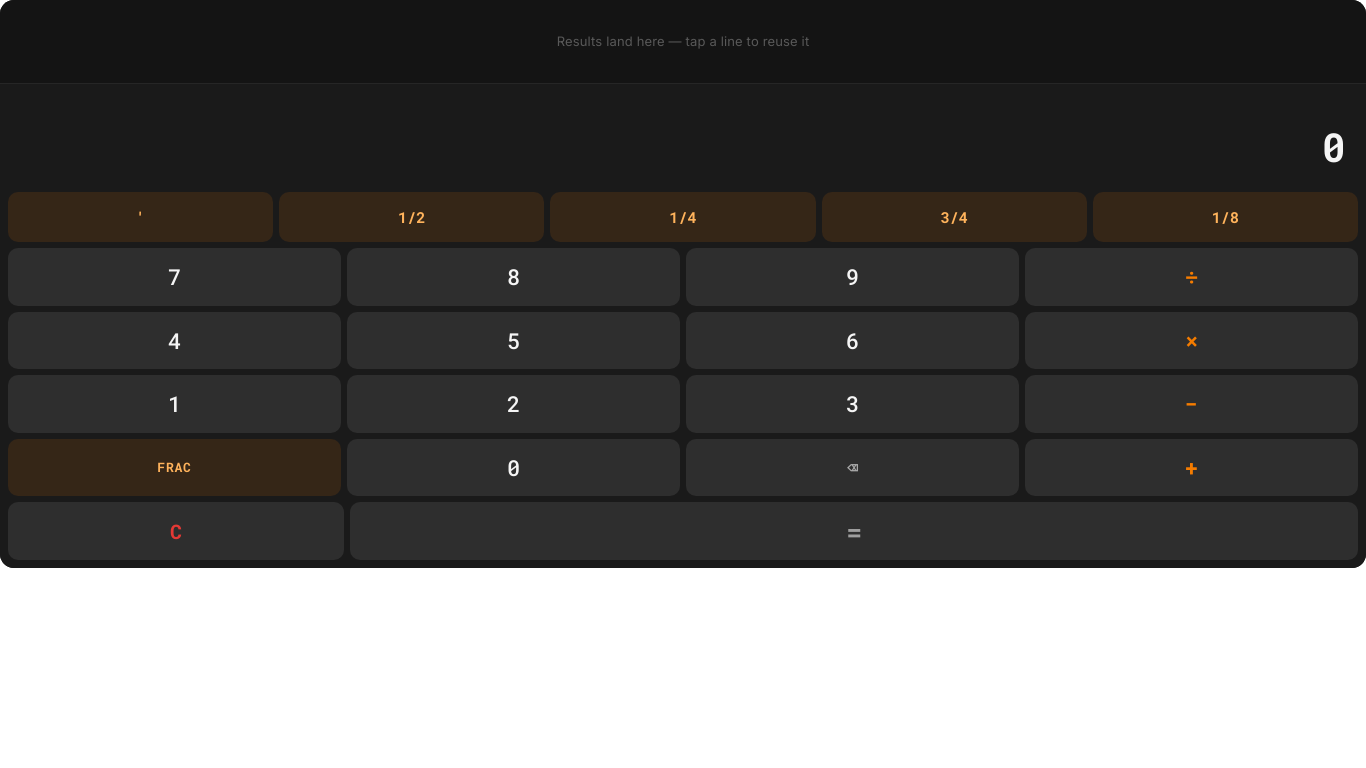
TapeCalc UI › backspace removes single digits
The width and height of the screenshot is (1366, 768).
Click the button "1" at (174, 404), box [8,375,341,433]
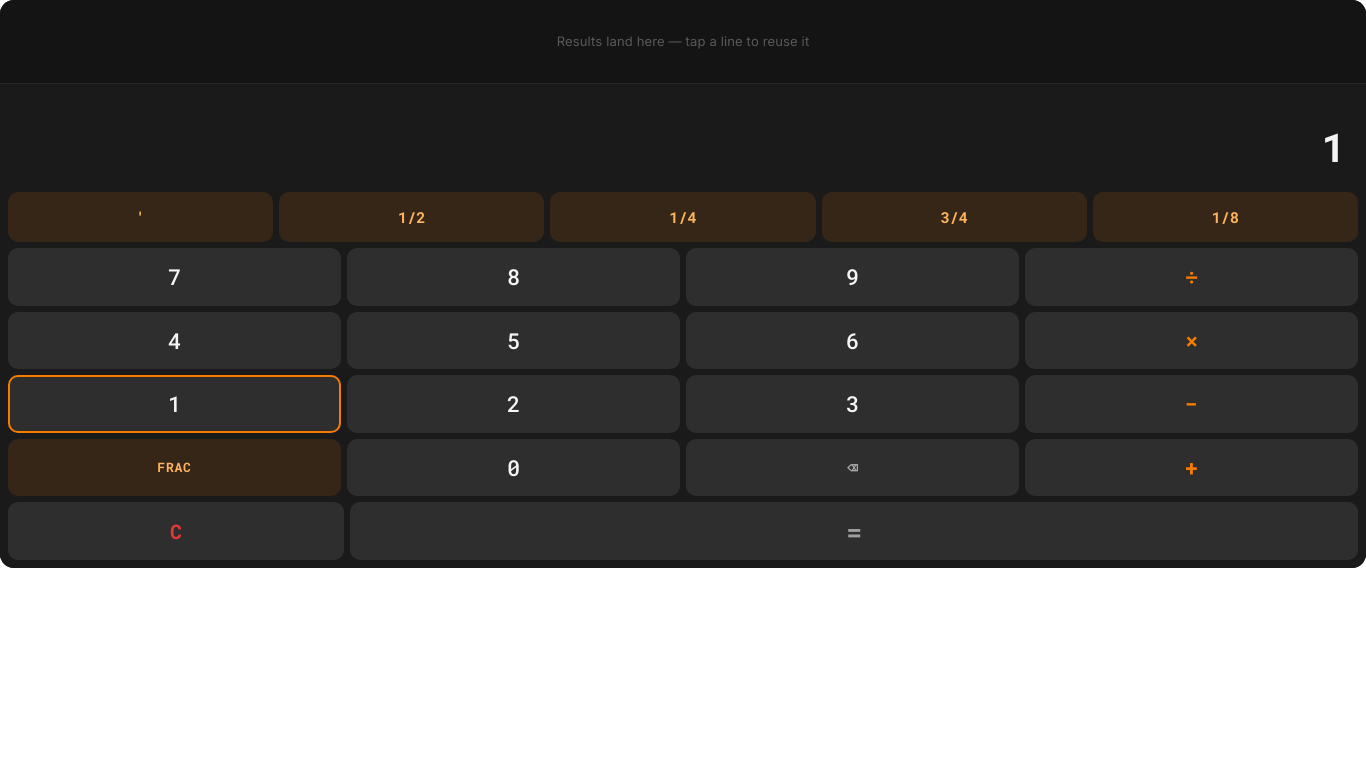
Click the button "2" at (514, 404), box [347,375,680,433]
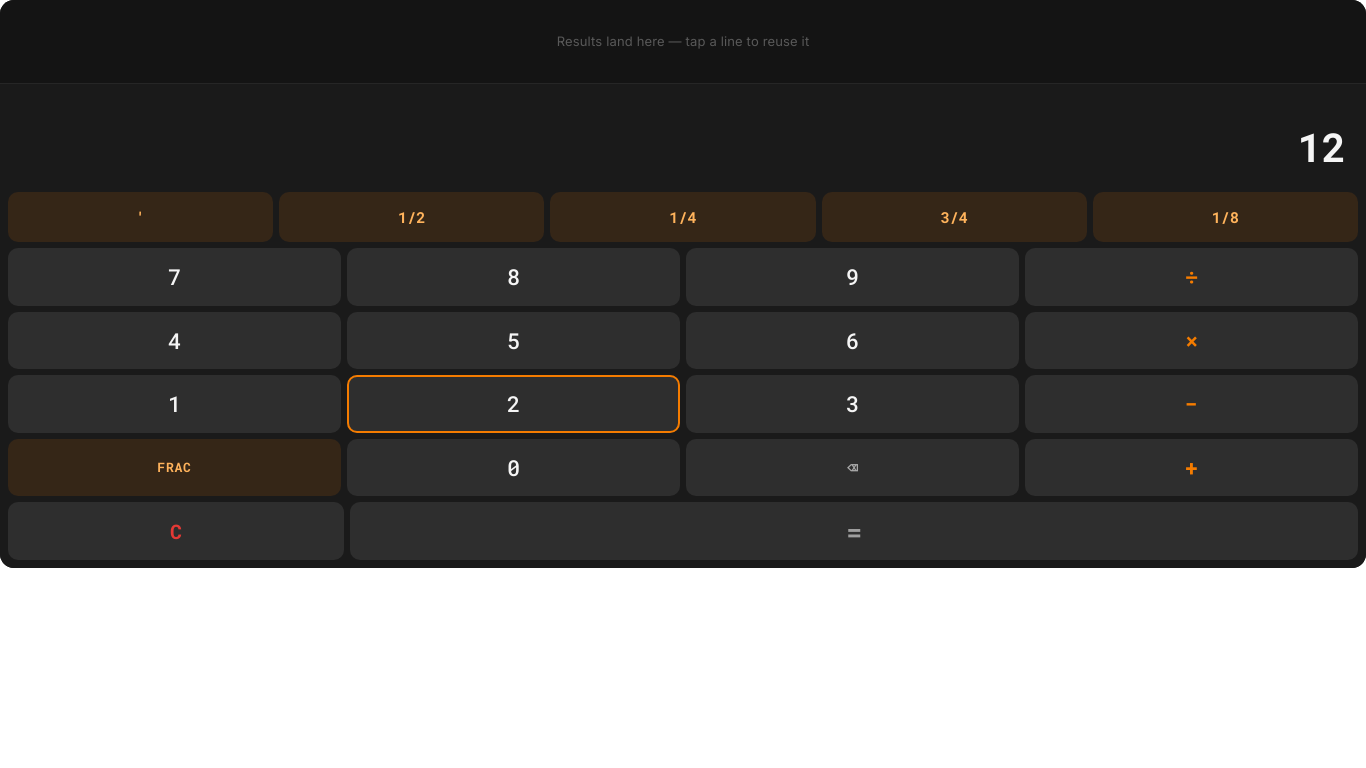
Click the button "3" at (852, 404), box [686,375,1019,433]
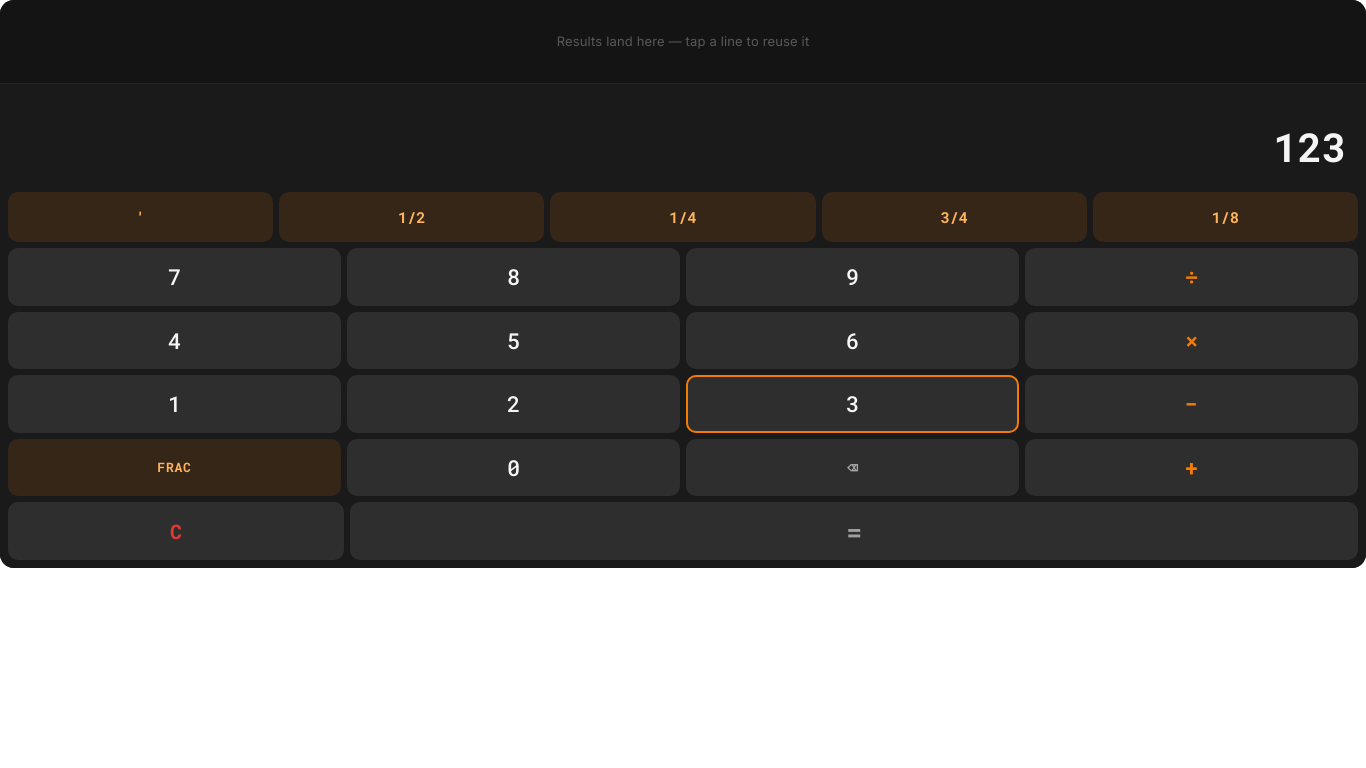
Result: the text with test id "display-value" reads "123" at [1274,120,1346,173]
Click the button named "backspace" at (852, 468), box [686,439,1019,496]
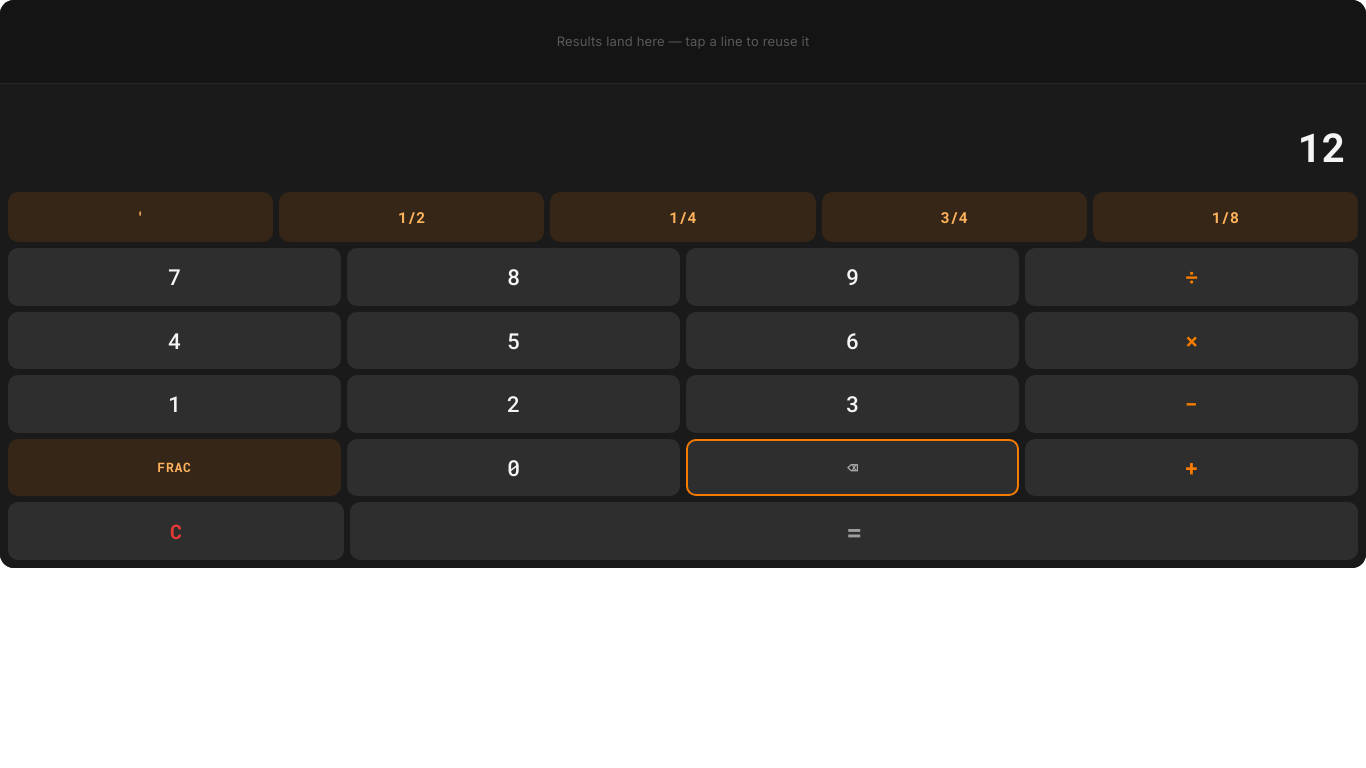
Result: the text with test id "display-value" reads "12" at [1298,120,1346,173]
